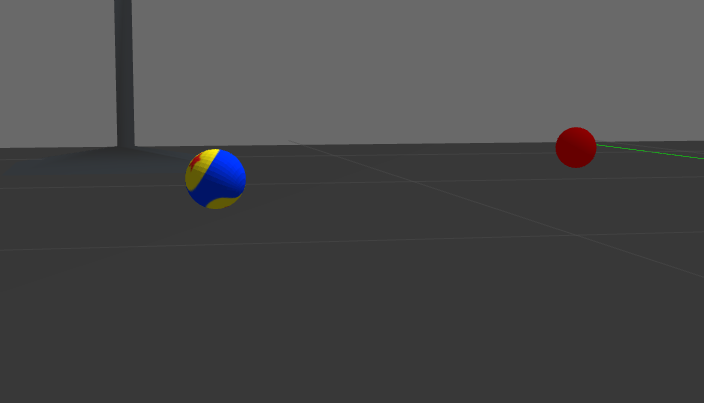toy_story_ball: (183, 148, 246, 208)
